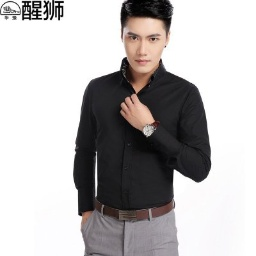face: (117, 1, 174, 76)
